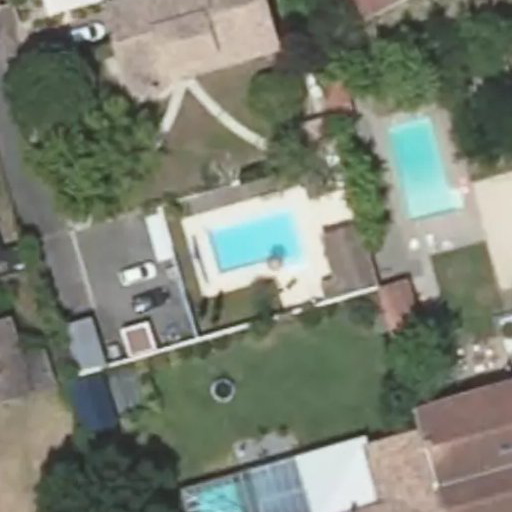pool: (206, 233, 303, 261)
